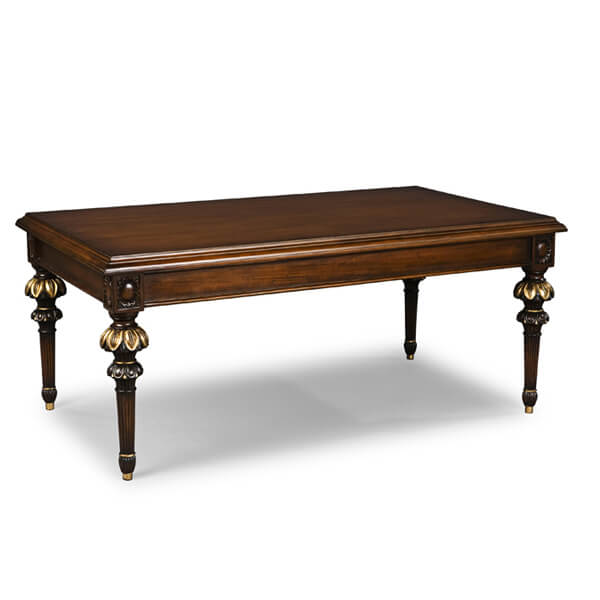Carving Table: (18, 174, 563, 449)
